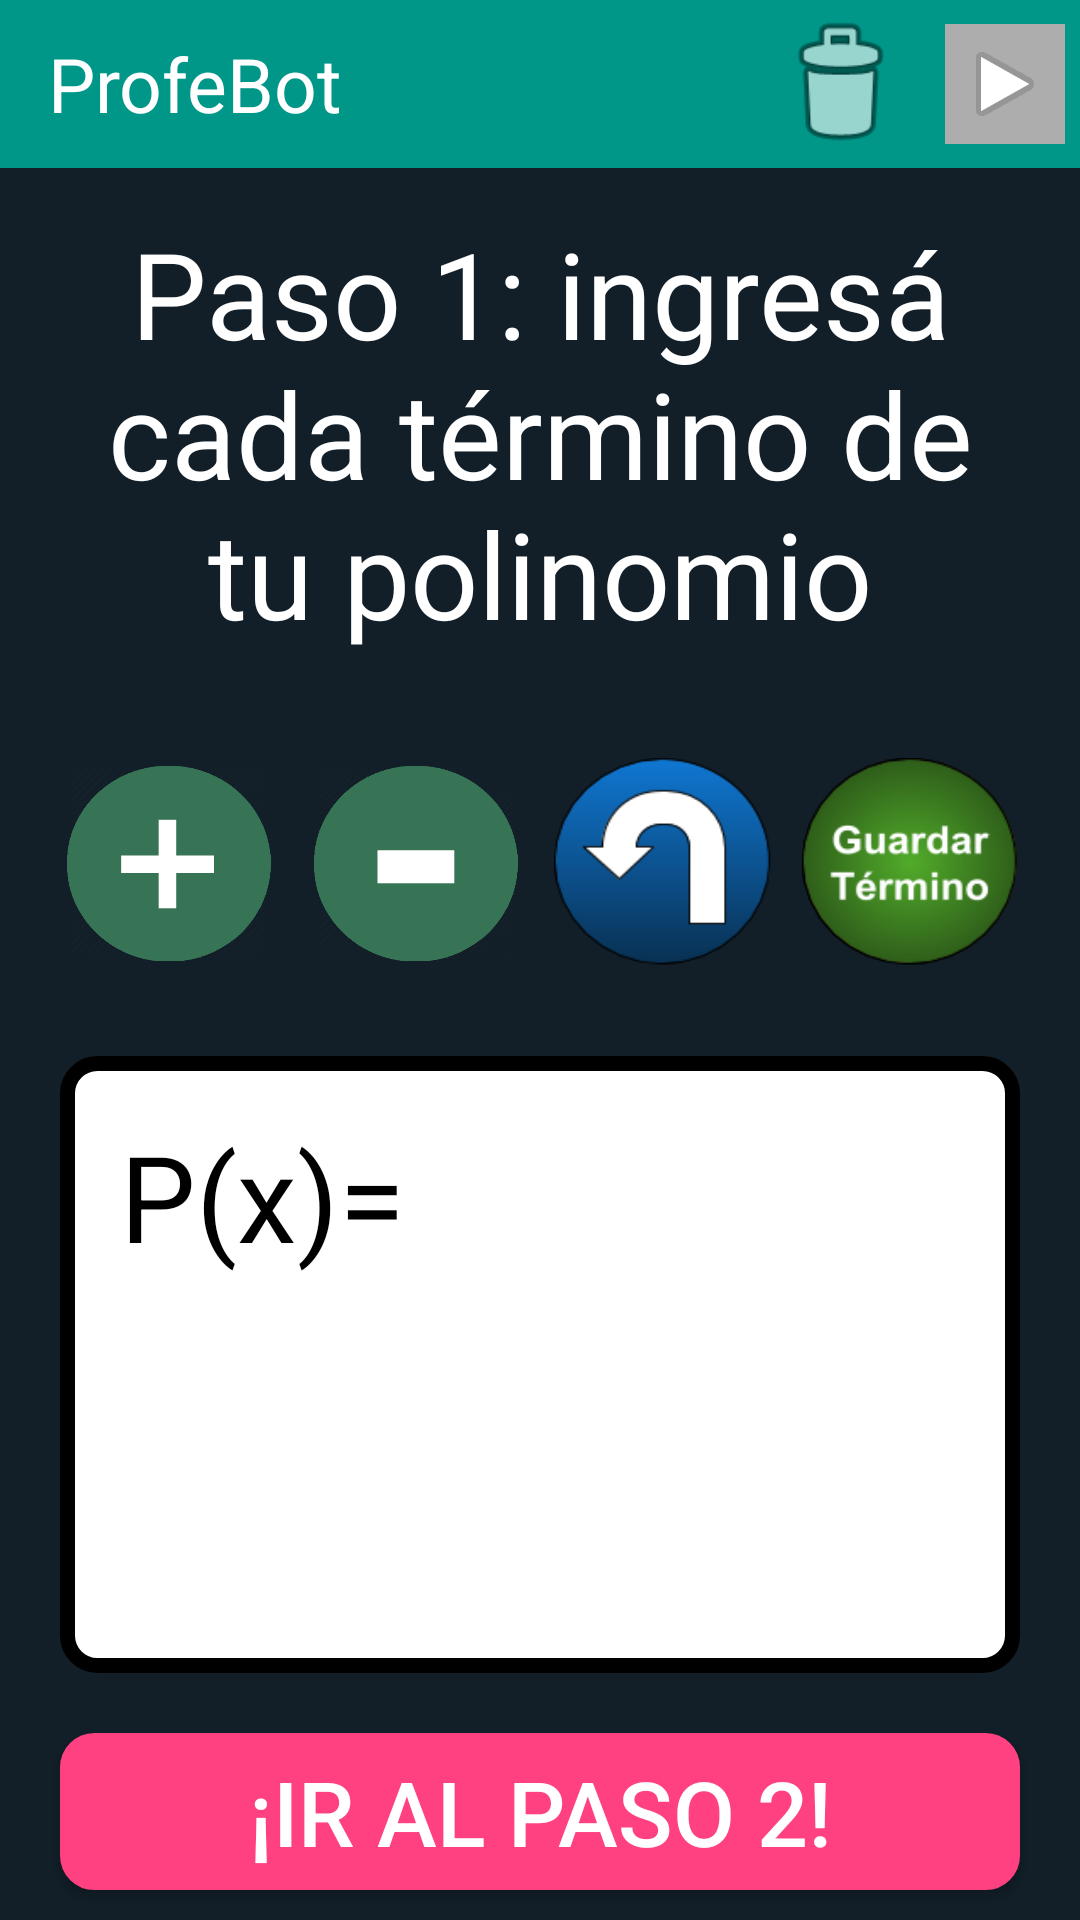

Icon click points for this 1080px×1920px phone screenshot, format [x,y]:
delete: [841,81]
negative sign: [416,863]
play: [1005,84]
positive sign: [169,863]
